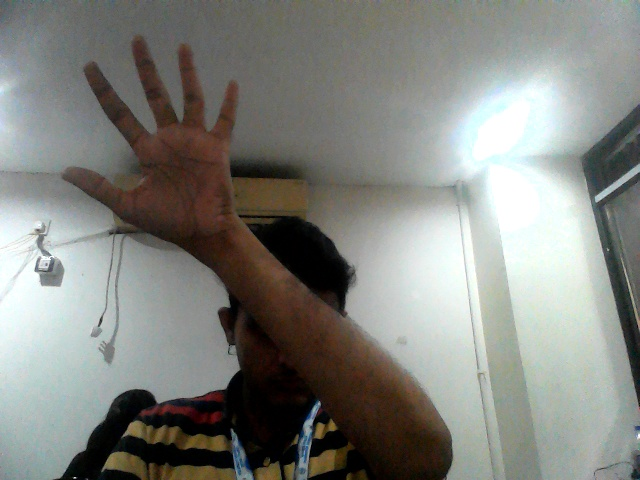palm: (56, 32, 253, 237)
